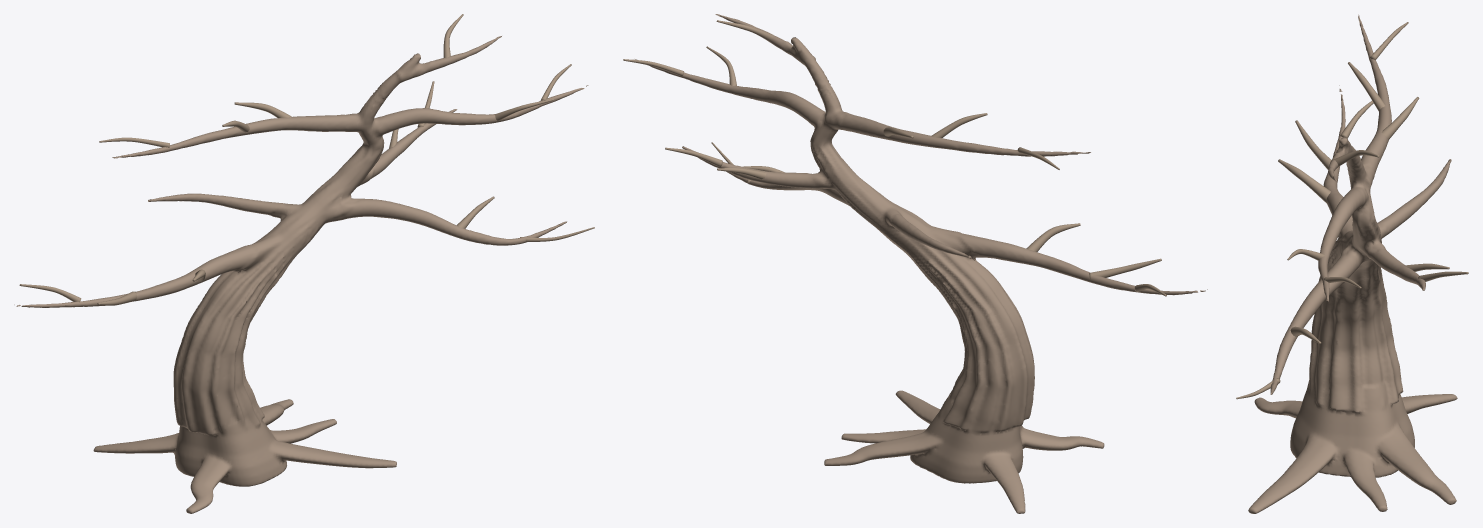
Rendered from pine005-h25-roots.glb.
The picture shows the model from 3 angles, left to right: view 1: azimuth 30°, elevation 25°; view 2: azimuth 150°, elevation 25°; view 3: azimuth 270°, elevation 25°; orthographic projection. The views are drawn at different scales.
Visible parts, largest first — view 1: H25_ORGANIC_TRUNK_TO_ROOT_UNIFIED; view 2: H25_ORGANIC_TRUNK_TO_ROOT_UNIFIED; view 3: H25_ORGANIC_TRUNK_TO_ROOT_UNIFIED, H25__H23__TWIG left-3, H25__H23__TWIG upper-left-1, H25__H23__TWIG left-1, H25__H23__TWIG upper-left-3, H25__H23__TWIG left-2, H25__H23__TWIG apex-1.
Part boxes in pixels (<box>): H25_ORGANIC_TRUNK_TO_ROOT_UNIFIED: <box>14,36,588,513</box>; H25_ORGANIC_TRUNK_TO_ROOT_UNIFIED: <box>634,14,1207,513</box>; H25_ORGANIC_TRUNK_TO_ROOT_UNIFIED: <box>1248,14,1457,513</box>; H25__H23__TWIG left-3: <box>1278,159,1330,203</box>; H25__H23__TWIG upper-left-1: <box>1348,62,1385,111</box>; H25__H23__TWIG left-1: <box>1295,120,1339,169</box>; H25__H23__TWIG upper-left-3: <box>1381,97,1419,139</box>; H25__H23__TWIG left-2: <box>1340,101,1373,138</box>; H25__H23__TWIG apex-1: <box>1334,150,1379,166</box>.
Size of the model in its own units: 12.34 by 7.92 by 3.91.
